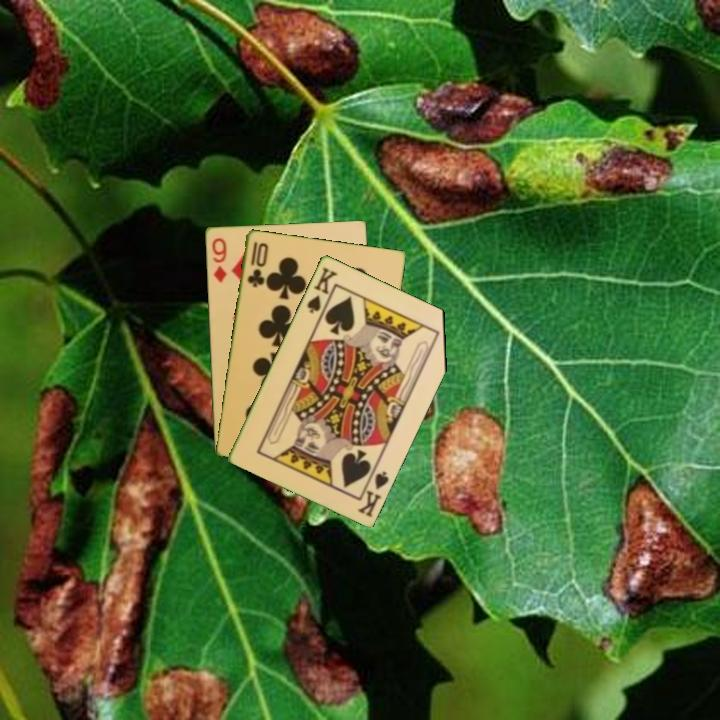10c: (243, 238, 270, 289)
9d: (208, 234, 229, 285)
Ks: (354, 462, 392, 520), (303, 263, 340, 316)
